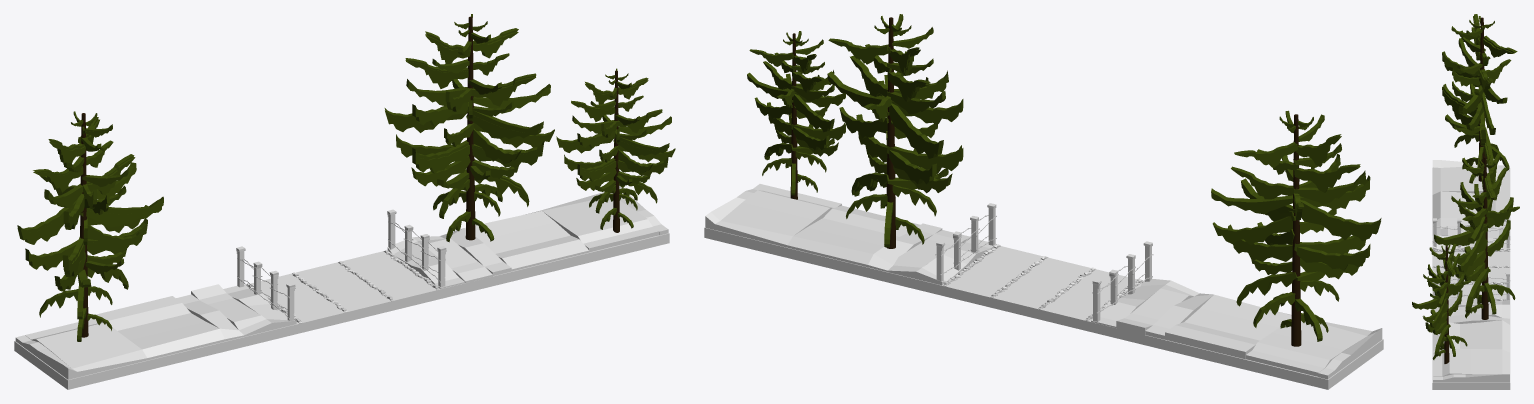
Rendered from SnowLanes.fbx.
3 renders of one model, left to right at view 1: azimuth 30°, elevation 25°; view 2: azimuth 150°, elevation 25°; view 3: azimuth 270°, elevation 25°, orthographic. The views are drawn at different scales.
Parts seen in each view (by area): view 1: GroundSnow, SnowL, SnowR, Plane.738, Plane.720, Plane.658, Cylinder.011, Cylinder.005, Plane.744, Plane.732, Plane.716, Cylinder.010 (+4 smaller); view 2: GroundSnow, SnowL, SnowR, Plane.720, Plane.738, Plane.658, Cylinder.005, Plane.729, Cylinder.011, Plane.719, Plane.715, Plane.730 (+7 smaller); view 3: SnowR, SnowL, Plane.720, Plane.738, GroundSnow, Plane.658, Cylinder.011, Plane.746, Plane.717, Cylinder.005, Cylinder.010, Plane.718 (+15 smaller).
Boxes of the visible parts, box(x1,y1,x2,y2) form: GroundSnow: box(14, 233, 669, 389); SnowL: box(15, 284, 296, 379); SnowR: box(387, 186, 668, 288); Plane.738: box(396, 14, 554, 242); Plane.720: box(25, 111, 147, 341); Plane.658: box(564, 68, 675, 229); Cylinder.011: box(465, 16, 475, 240); Cylinder.005: box(80, 113, 88, 337); Plane.744: box(412, 145, 469, 173); Plane.732: box(86, 203, 162, 227); Plane.716: box(472, 115, 541, 138); Cylinder.010: box(613, 70, 619, 232); GroundSnow: box(704, 227, 1383, 389); SnowL: box(1091, 278, 1382, 379); SnowR: box(705, 184, 996, 285); Plane.720: box(1211, 114, 1370, 341); Plane.738: box(827, 16, 963, 247); Plane.658: box(747, 32, 845, 195); Cylinder.005: box(1291, 114, 1301, 346); Plane.729: box(1294, 200, 1381, 238); Cylinder.011: box(886, 17, 895, 248); Plane.719: box(889, 103, 943, 155); Plane.715: box(887, 145, 961, 169); Plane.730: box(1228, 224, 1292, 259); SnowR: box(1432, 297, 1509, 382); SnowL: box(1432, 160, 1510, 249); Plane.720: box(1442, 16, 1511, 183); Plane.738: box(1451, 155, 1519, 318); GroundSnow: box(1432, 168, 1510, 389); Plane.658: box(1422, 244, 1471, 359); Cylinder.011: box(1481, 156, 1488, 319); Plane.746: box(1434, 225, 1487, 243); Plane.717: box(1467, 267, 1489, 312); Cylinder.005: box(1478, 17, 1484, 181); Cylinder.010: box(1444, 246, 1449, 363); Plane.718: box(1452, 250, 1485, 276).
Size of the model in its own units: 13653 by 4935 by 2761.
